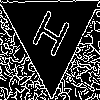H: (25, 9, 73, 67)
